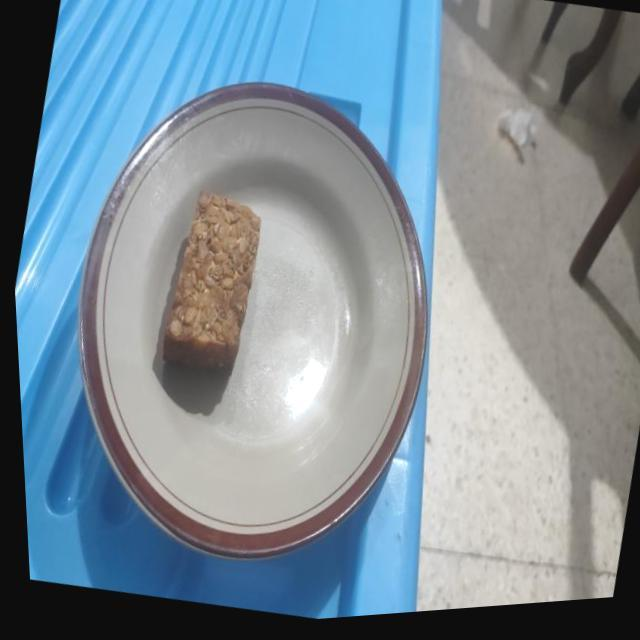tempe_goreng: (163, 192, 260, 369)
